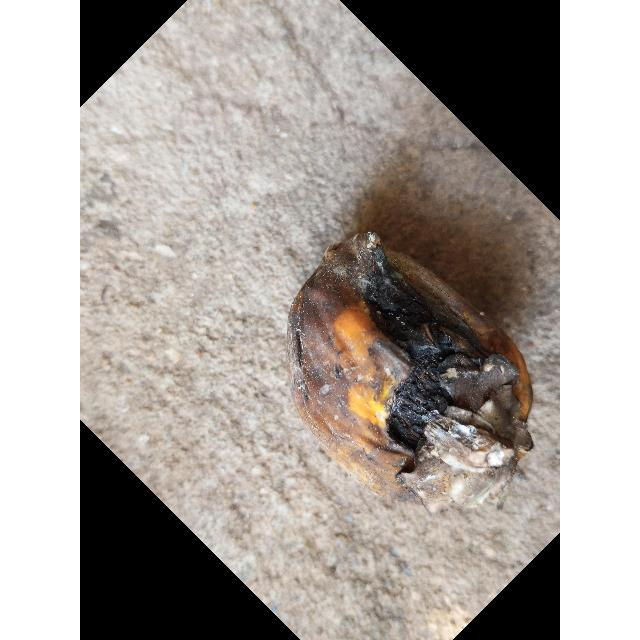damaged: (288, 232, 534, 487)
